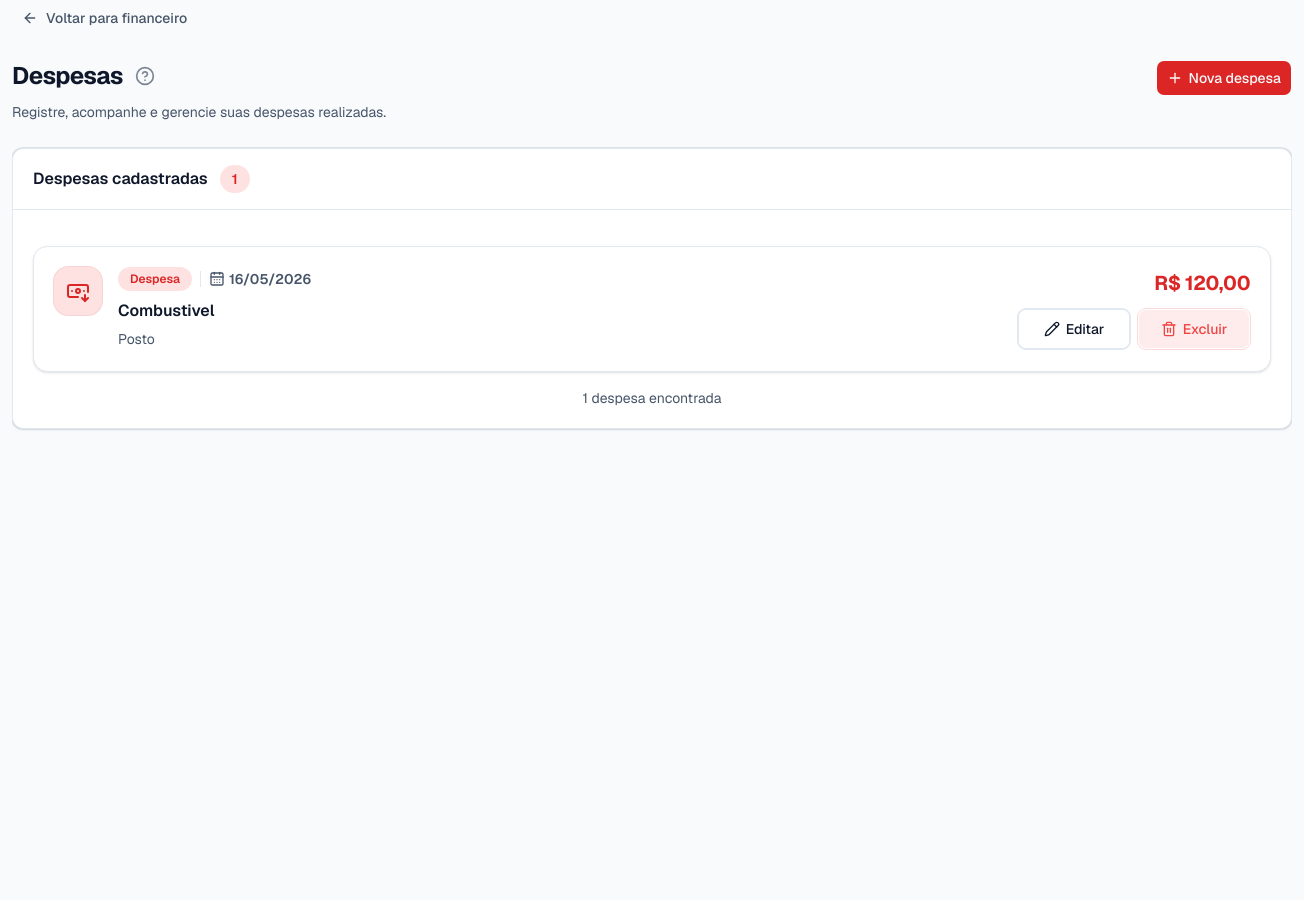
Scenario: FinanceExpensesPageContent › should open create expense form
This screenshot has width=1304, height=900.
Click the button "Nova despesa": (1224, 78) [1156,60,1292,96]
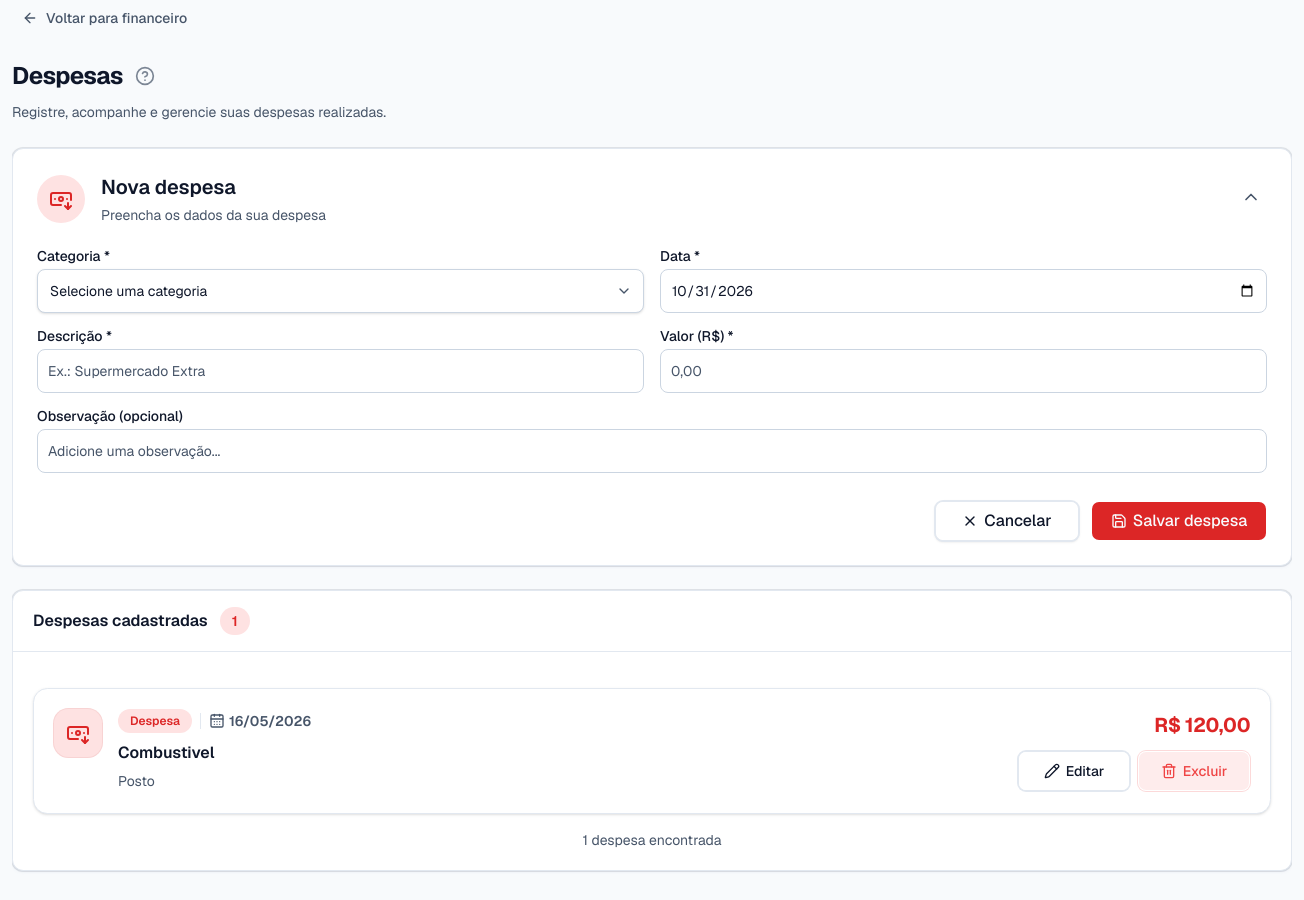
Expected: the heading "Nova despesa" is shown, [101,174,236,200]
Expected: the dropdown labelled "Categoria *" is shown, [37,269,644,313]
